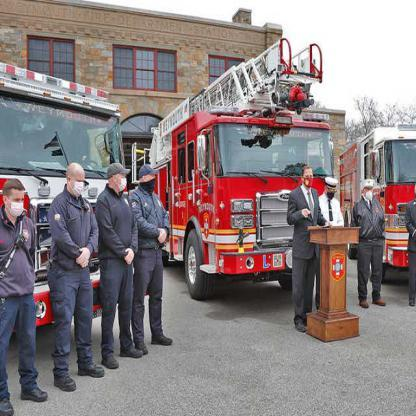fire-truck: (138, 12, 416, 380)
